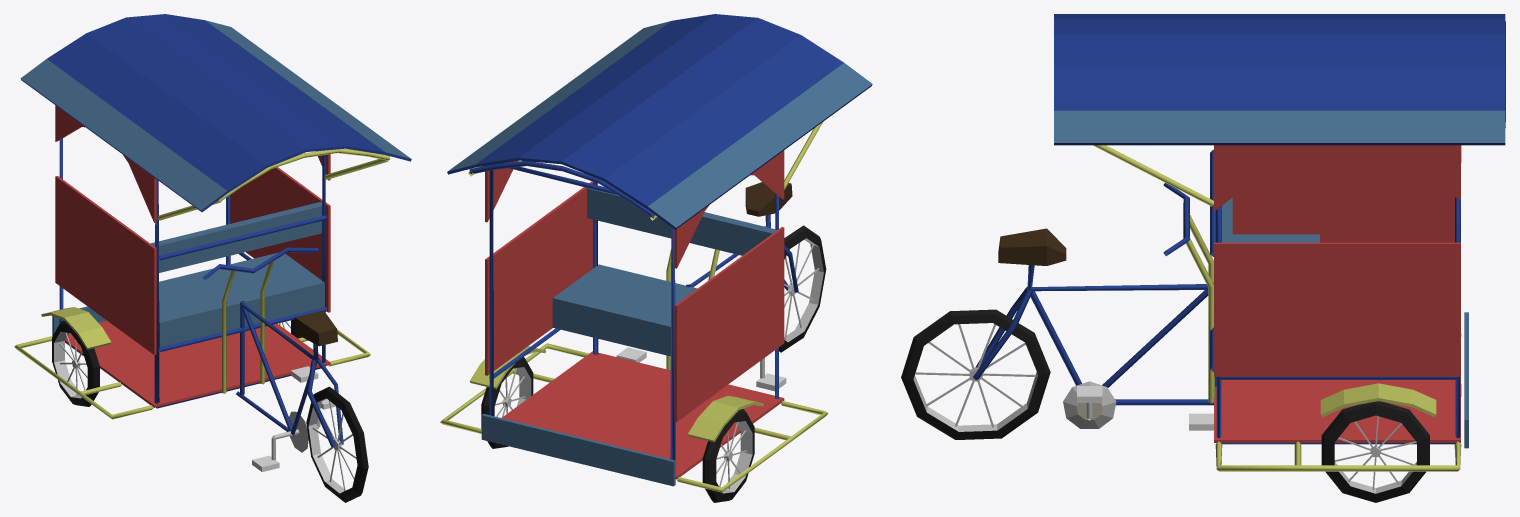
The model's file is Triciclo_001.fbx.
3 views of the same model, side by side, from view 1: azimuth 30°, elevation 25°; view 2: azimuth 150°, elevation 25°; view 3: azimuth 270°, elevation 25° (orthographic). The views are drawn at different scales.
Parts seen in each view (by area): view 1: Canasta_Main, tubos_Main, Bicicleta_Main, Rueda.Main, Circle, pedal_Main; view 2: Canasta_Main, tubos_Main, Circle, Rueda.Main, Bicicleta_Main, Circle.001; view 3: Canasta_Main, tubos_Main, Rueda.Main, Bicicleta_Main, Circle.001, pedal_Main.
Part boxes in pixels (x1,y1,x2,y2): Canasta_Main: [20, 14, 411, 407]; tubos_Main: [14, 138, 390, 419]; Bicicleta_Main: [236, 301, 343, 447]; Rueda.Main: [306, 386, 368, 502]; Circle: [52, 320, 99, 406]; pedal_Main: [271, 411, 320, 460]; Canasta_Main: [447, 14, 872, 486]; tubos_Main: [440, 122, 828, 492]; Circle: [702, 409, 754, 502]; Rueda.Main: [779, 225, 826, 352]; Bicicleta_Main: [686, 182, 798, 292]; Circle.001: [481, 357, 533, 448]; Canasta_Main: [1054, 14, 1505, 448]; tubos_Main: [1093, 20, 1505, 471]; Rueda.Main: [901, 309, 1050, 439]; Bicicleta_Main: [973, 228, 1216, 405]; Circle.001: [1321, 401, 1429, 502]; pedal_Main: [1063, 381, 1116, 428].
Size of the model in its own units: 169 by 202 by 273.
